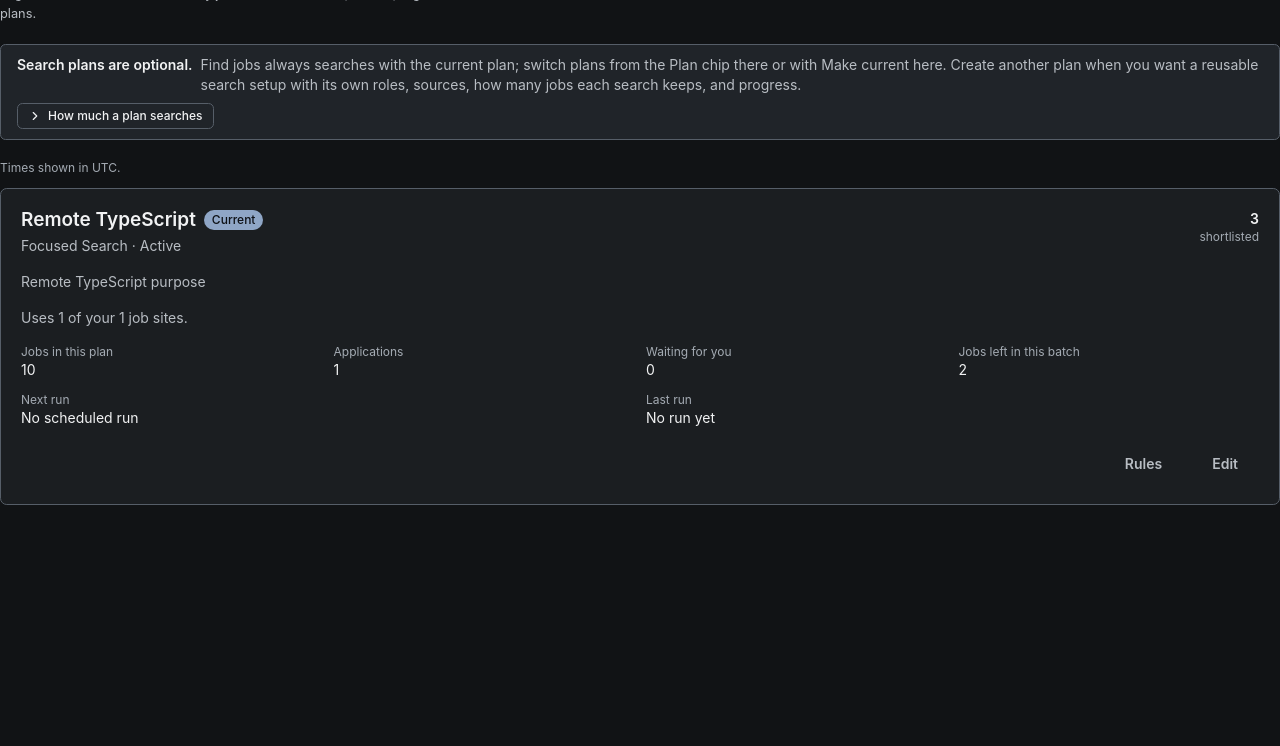
CampaignsScreen › says what the fit percentage measures and what it does
Click the button "Edit": (1225, 464) [1191,444,1259,484]
(page scrolled)
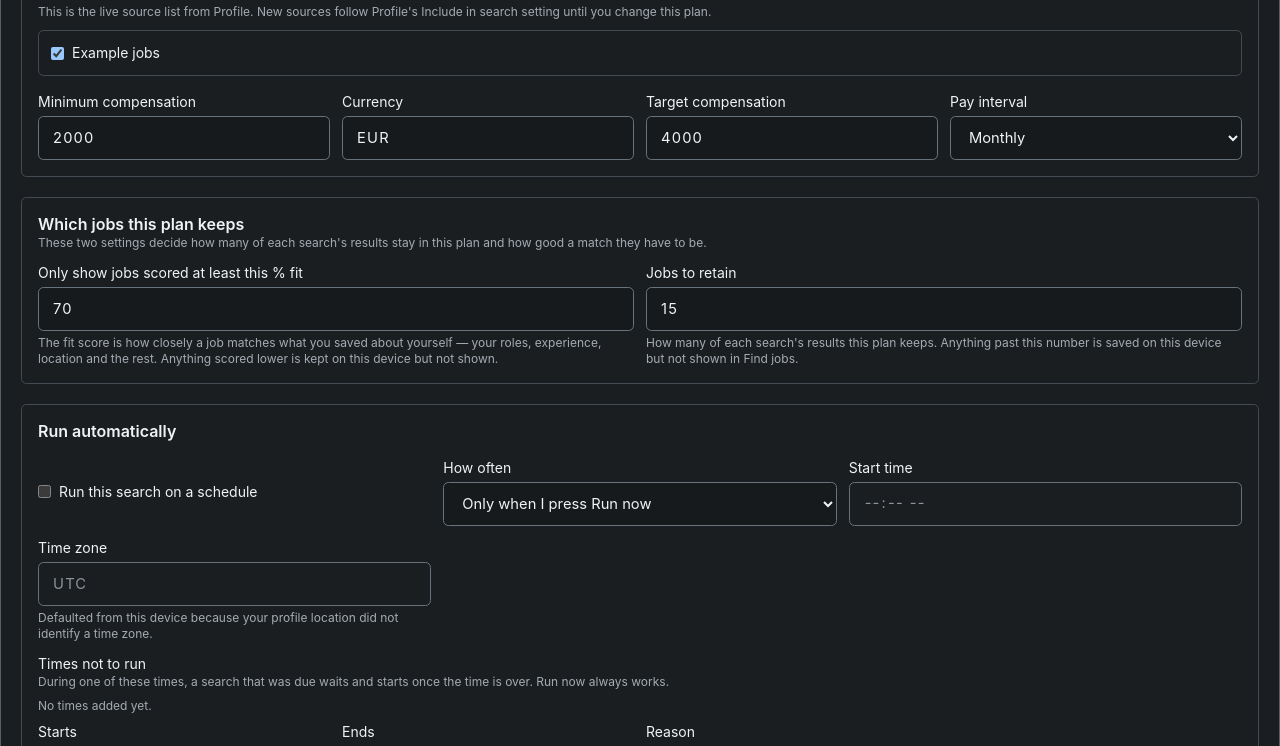
Check: the number field labelled "Only show jobs scored at least this % fit" is shown, box [38,287,634,331]
Check: the text "how closely a job matches what you saved about" is shown, box [38,335,601,366]
